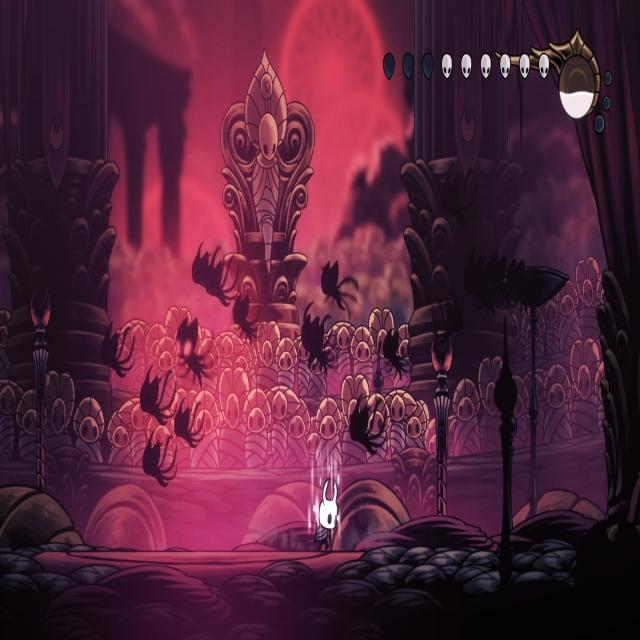Player: (312, 469, 343, 559)
Staggered_Grimm: (174, 311, 218, 390)
